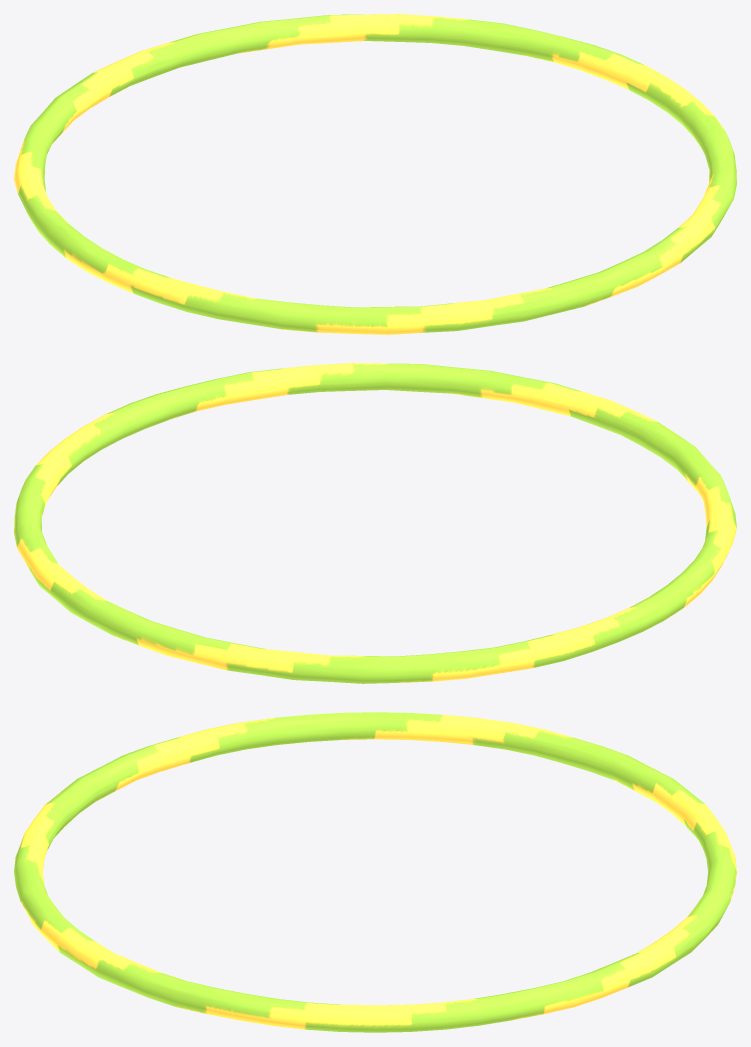
File: boss_shock_ring.glb
3 views of the same model, one above another, from view 1: azimuth 30°, elevation 25°; view 2: azimuth 150°, elevation 25°; view 3: azimuth 270°, elevation 25° (orthographic).
Visible parts, largest first — view 1: boss_shock_ring_Mesh.001; view 2: boss_shock_ring_Mesh.001; view 3: boss_shock_ring_Mesh.001.
Boxes of the visible parts, box(x1,y1,x2,y2) form: boss_shock_ring_Mesh.001: box(14, 14, 736, 334); boss_shock_ring_Mesh.001: box(14, 363, 736, 683); boss_shock_ring_Mesh.001: box(14, 712, 736, 1032).
Size of the model in its own units: 2 by 0.0802 by 2.
1 material, 1 textured.
